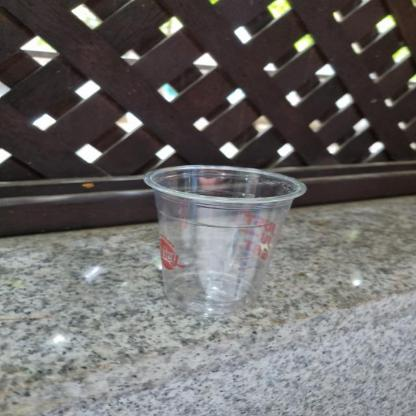Plastic Cup: (140, 160, 310, 320)
